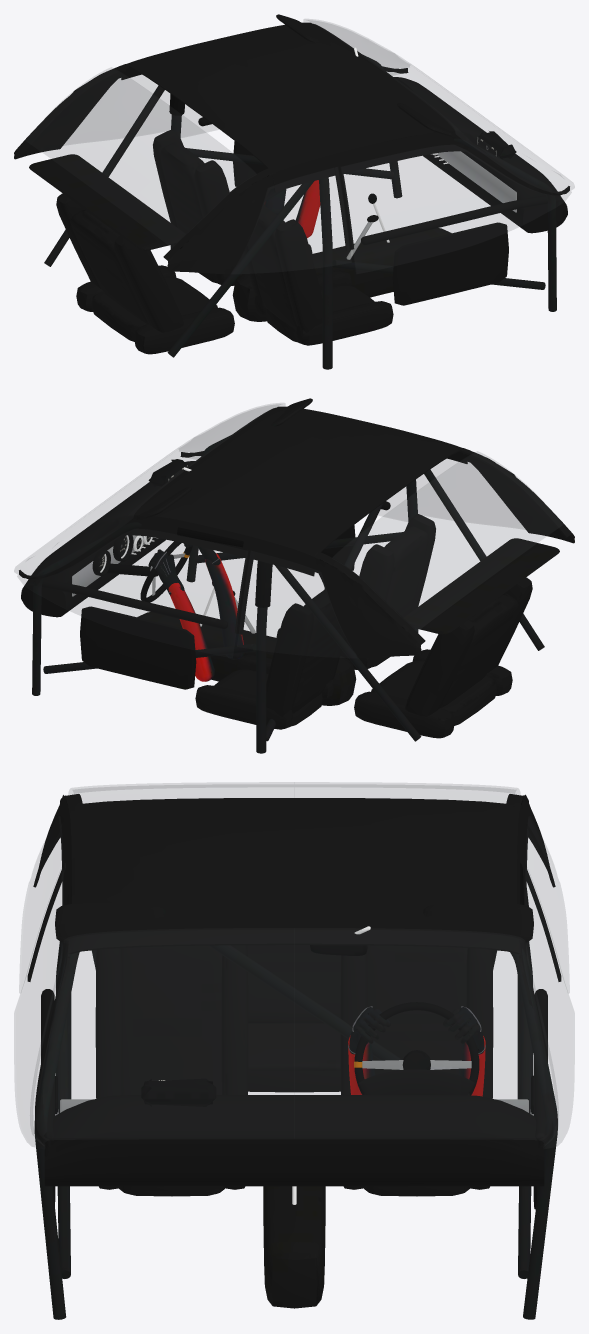
Rendered from kz_kestrel_cockpit.glb.
3 renders of one model, top to bottom at view 1: azimuth 30°, elevation 25°; view 2: azimuth 150°, elevation 25°; view 3: azimuth 270°, elevation 25°, orthographic. The views are drawn at different scales.
Visible parts, largest first — view 1: cockpit_shell, cabin_glass, window_R, hands; view 2: cockpit_shell, cabin_glass, window_L, hands, steering_wheel; view 3: cockpit_shell, cabin_glass, window_L, window_R, hands, steering_wheel.
Boxes of the visible parts, bbox=[...] form: cockpit_shell: bbox=[14, 14, 569, 369]; cabin_glass: bbox=[25, 19, 574, 273]; window_R: bbox=[341, 145, 571, 273]; hands: bbox=[264, 180, 320, 238]; cockpit_shell: bbox=[19, 398, 574, 753]; cabin_glass: bbox=[14, 403, 563, 657]; window_L: bbox=[17, 529, 247, 657]; hands: bbox=[150, 543, 243, 681]; steering_wheel: bbox=[140, 541, 192, 602]; cockpit_shell: bbox=[27, 794, 561, 1319]; cabin_glass: bbox=[19, 782, 569, 1144]; window_L: bbox=[526, 868, 574, 1148]; window_R: bbox=[14, 868, 62, 1148]; hands: bbox=[348, 1006, 485, 1096]; steering_wheel: bbox=[354, 1002, 479, 1095].
Bounding box in the file's own units: 2.1 × 1.11 × 1.65.
4 materials, 2 textured.
